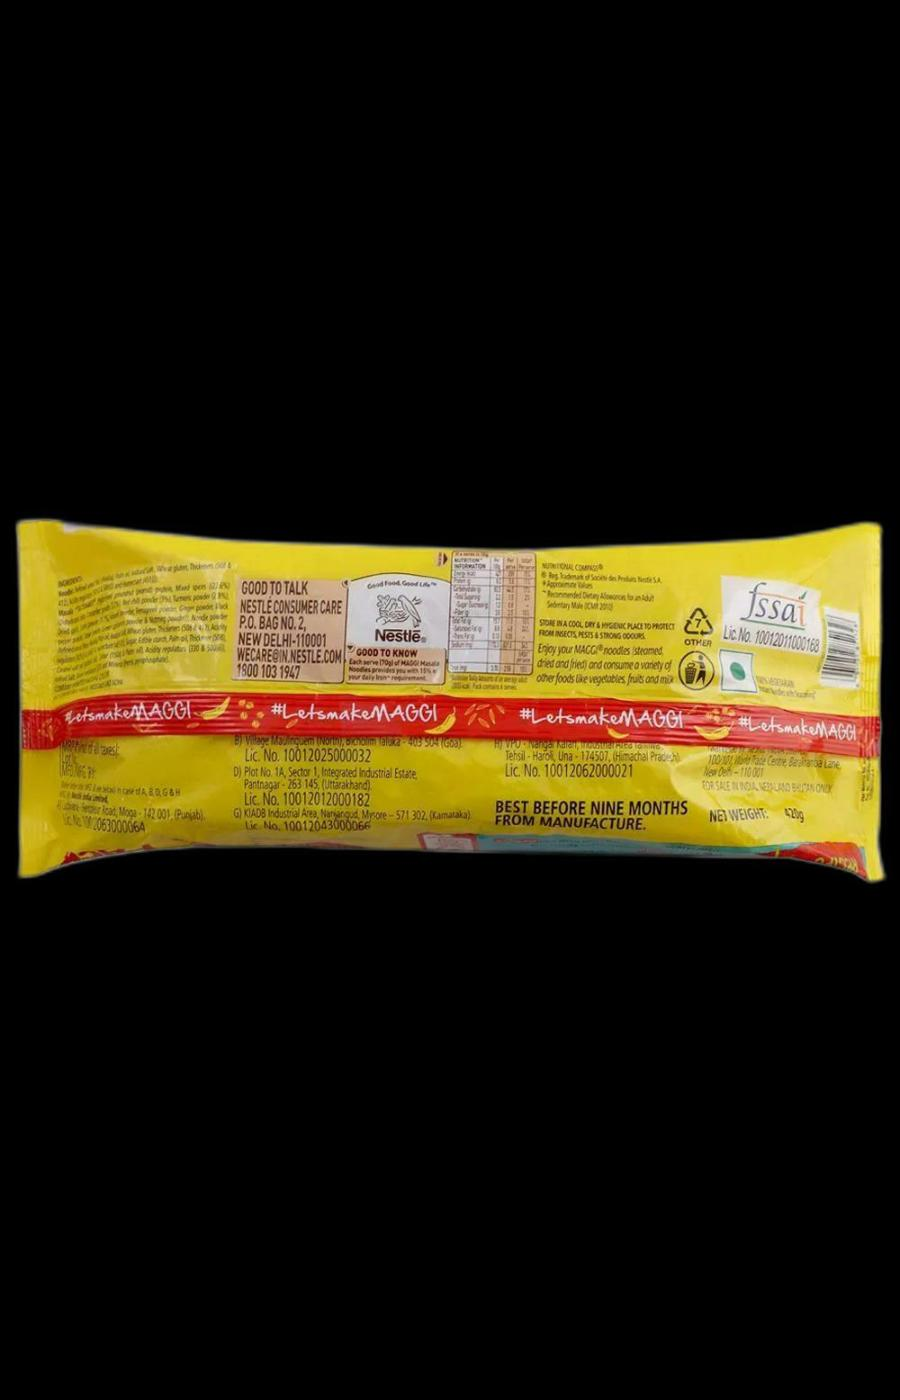Maggi 2-Minute Masala Instant Noodles 420 g: (8, 506, 892, 890)
